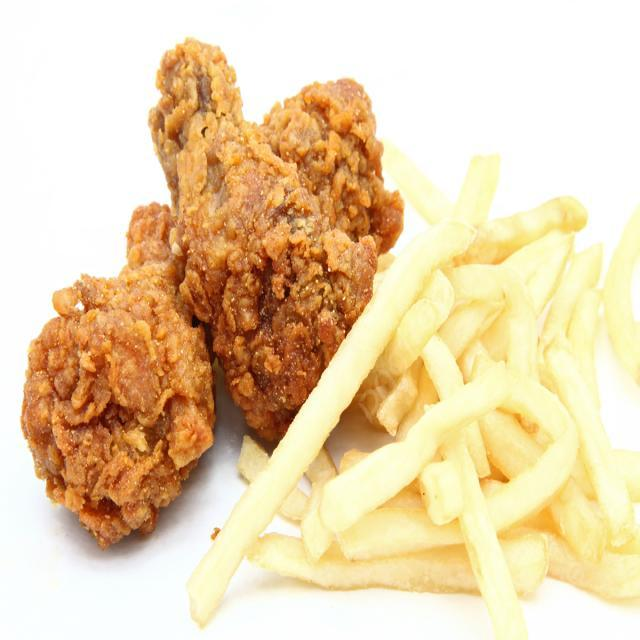ga ran va khoai tay chien: (17, 35, 640, 631)
khoai tay chien: (200, 138, 640, 633)
thit ga: (152, 42, 406, 435), (23, 202, 215, 550)
